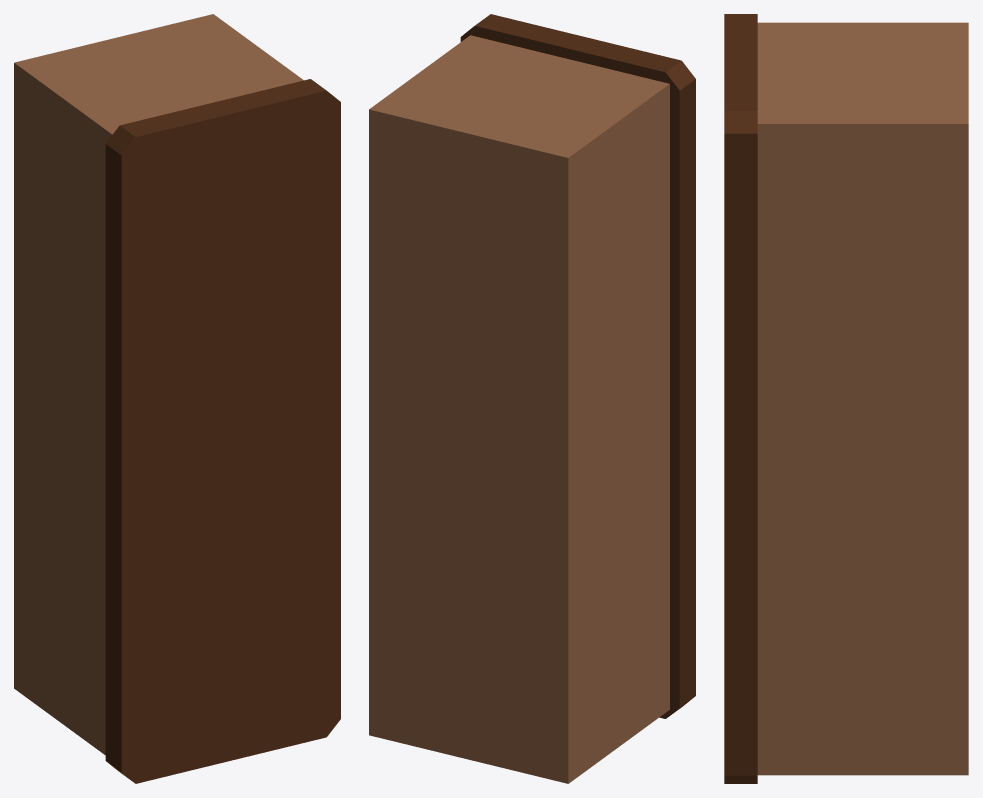
The model's file is ChaletDesk.fbx.
3 views of the same model, side by side, from view 1: azimuth 30°, elevation 25°; view 2: azimuth 150°, elevation 25°; view 3: azimuth 270°, elevation 25° (orthographic). The views are drawn at different scales.
Visible parts, largest first — view 1: Desk; view 2: Desk; view 3: Desk.
Boxes of the visible parts, x1=… form: Desk: x1=14, y1=14, x2=340, y2=783; Desk: x1=369, y1=14, x2=695, y2=783; Desk: x1=724, y1=14, x2=968, y2=783.
Size of the model in its own units: 2.2 by 6.2 by 2.04.
